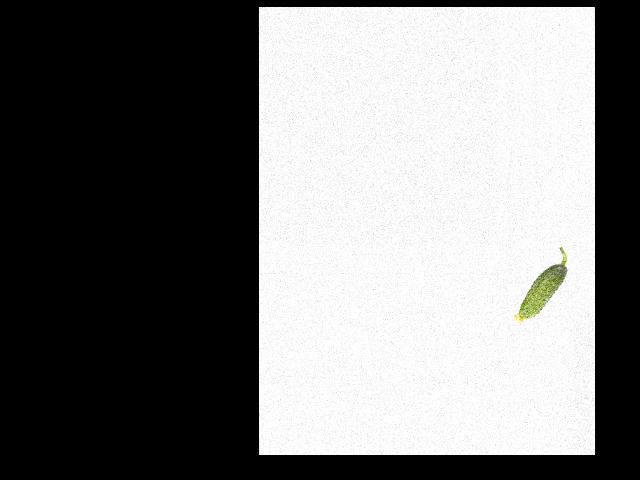cucumber: (513, 247, 567, 322)
